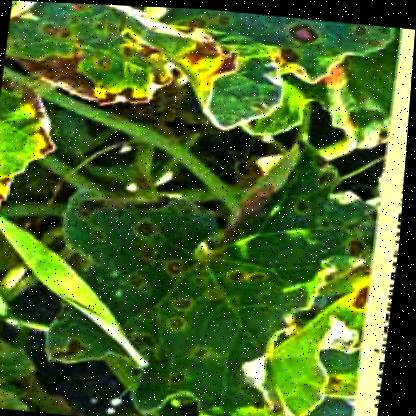AlternariaBrassicicola: (129, 194, 218, 333), (270, 14, 330, 44)
